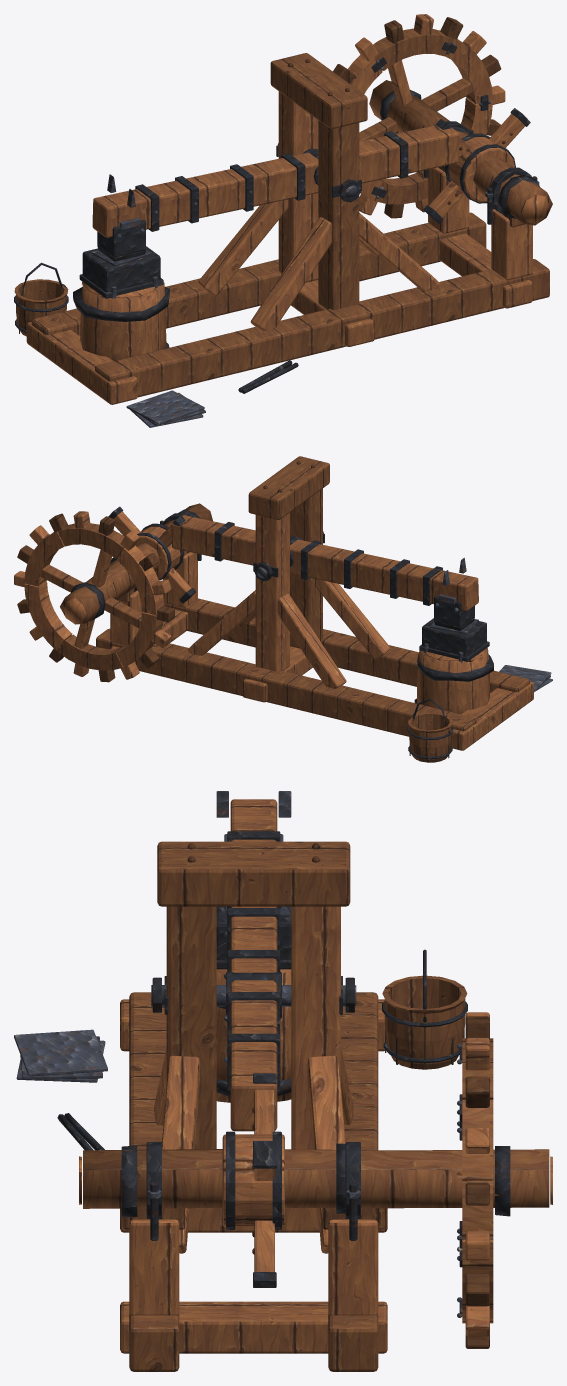
File: hw_trip_hammer.glb
The picture shows the model from 3 angles, top to bottom: view 1: azimuth 30°, elevation 25°; view 2: azimuth 150°, elevation 25°; view 3: azimuth 270°, elevation 25°; orthographic projection. The views are drawn at different scales.
Visible parts, largest first — view 1: model; view 2: model; view 3: model.
Boxes of the visible parts, bbox=[...] form: model: bbox=[14, 14, 552, 427]; model: bbox=[14, 456, 552, 762]; model: bbox=[14, 791, 552, 1371].
Size of the model in its own units: 2.94 by 1.34 by 1.73.
Materials: 9 (8 with a texture image).
